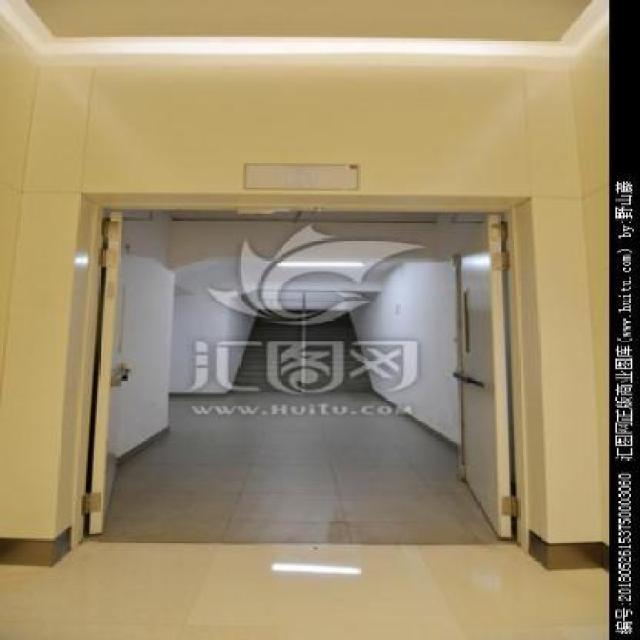exit_sign: (237, 158, 366, 190)
